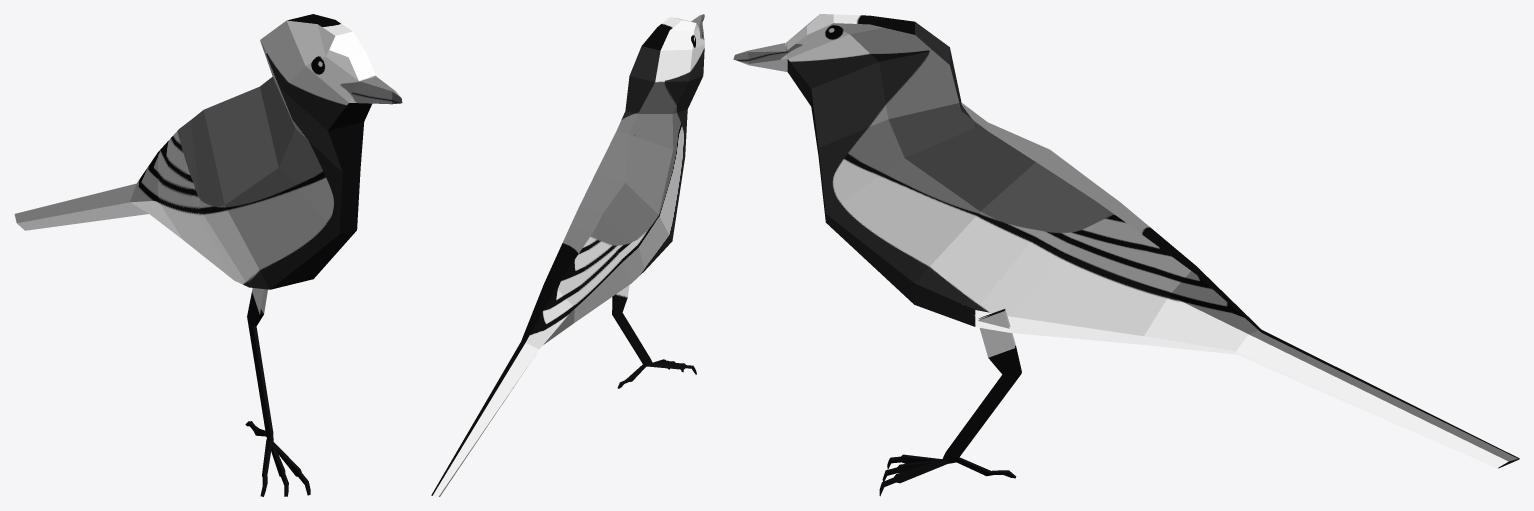
Rendered from baltoji_kiele2.glb.
3 views of the same model, side by side, from view 1: azimuth 30°, elevation 25°; view 2: azimuth 150°, elevation 25°; view 3: azimuth 270°, elevation 25° (orthographic). The views are drawn at different scales.
Parts seen in each view (by area): view 1: Plane.002; view 2: Plane.002; view 3: Plane.002.
Boxes of the visible parts, bbox=[...] form: Plane.002: bbox=[14, 14, 402, 496]; Plane.002: bbox=[431, 14, 704, 496]; Plane.002: bbox=[733, 14, 1519, 496].
Bounding box in the file's own units: 0.3888 × 2.69 × 3.97.
1 material, 1 textured.
